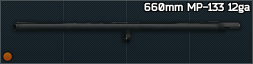MP-133 12ga 660mm barrel with rib: (0, 0, 253, 64)
